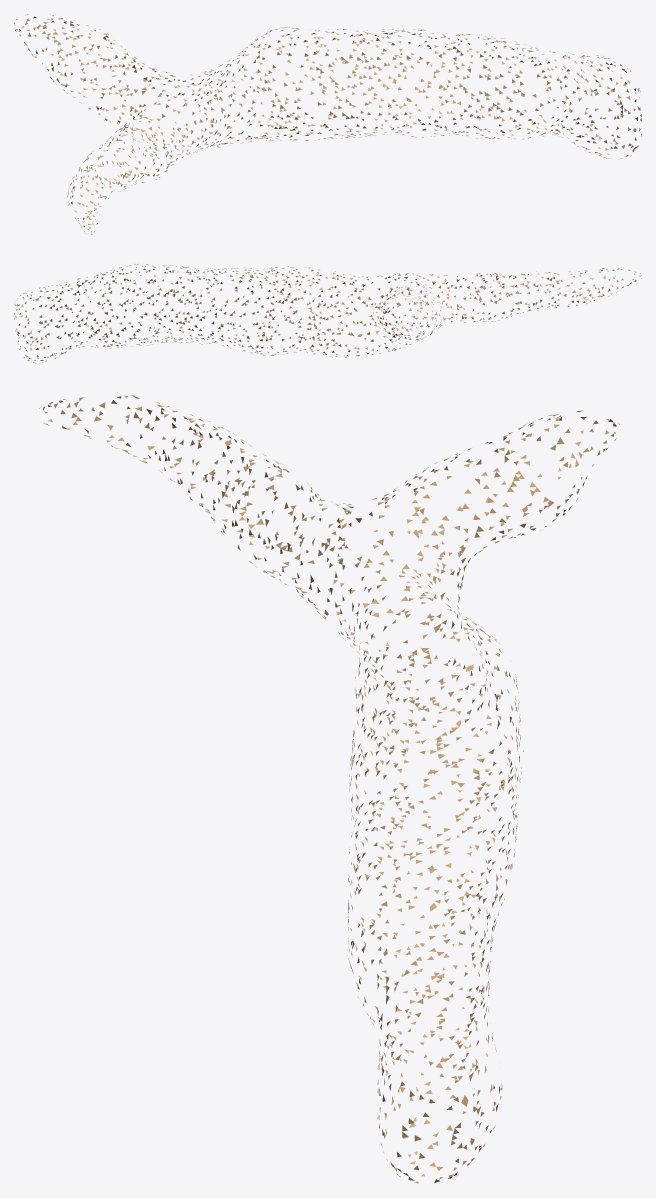
Rendered from morph_006.glb.
3 views of the same model, one above another, from view 1: azimuth 30°, elevation 25°; view 2: azimuth 150°, elevation 25°; view 3: azimuth 270°, elevation 25° (orthographic). The views are drawn at different scales.
Size of the model in its own units: 126 by 41.79 by 60.39.
